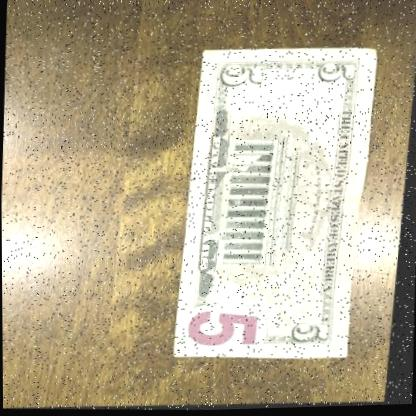five-back: (174, 44, 381, 370)
